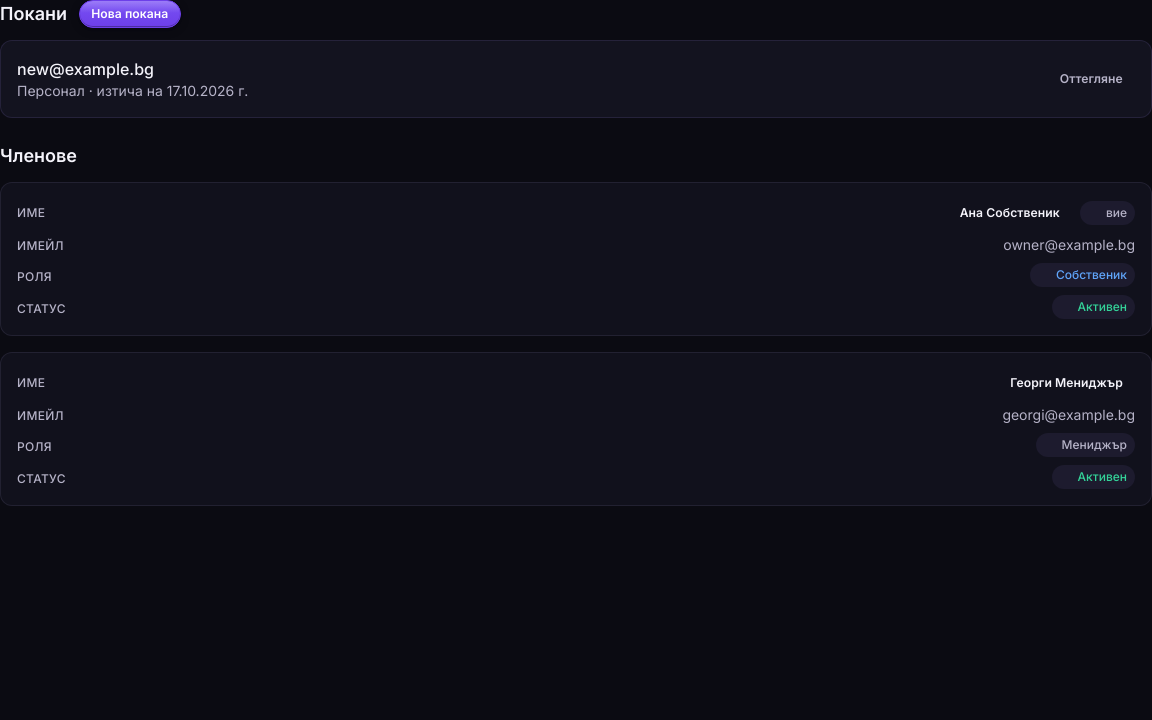
StaffBoard › #278: the invite offers MANAGER and STAFF only, and starts on STAFF
Click the button "Нова покана" at x=130, y=14, box left=79, top=0, right=181, bottom=28
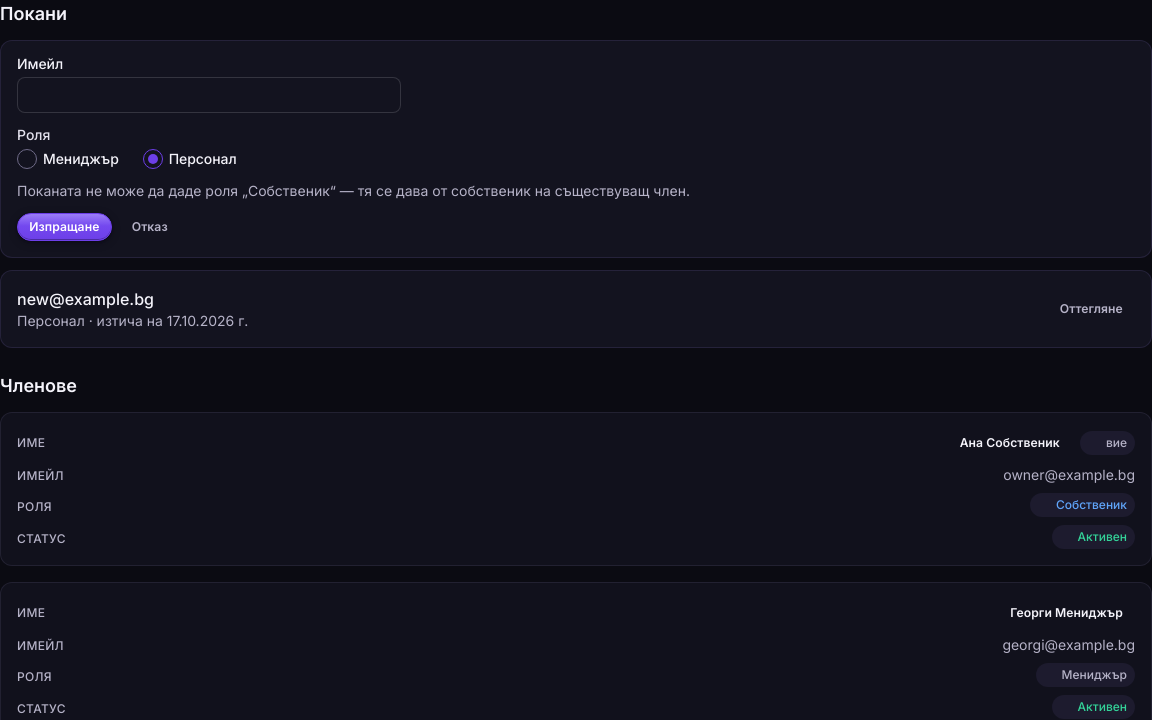
Check: the 2nd radio button named "Персонал" is checked, box left=143, top=149, right=163, bottom=169
